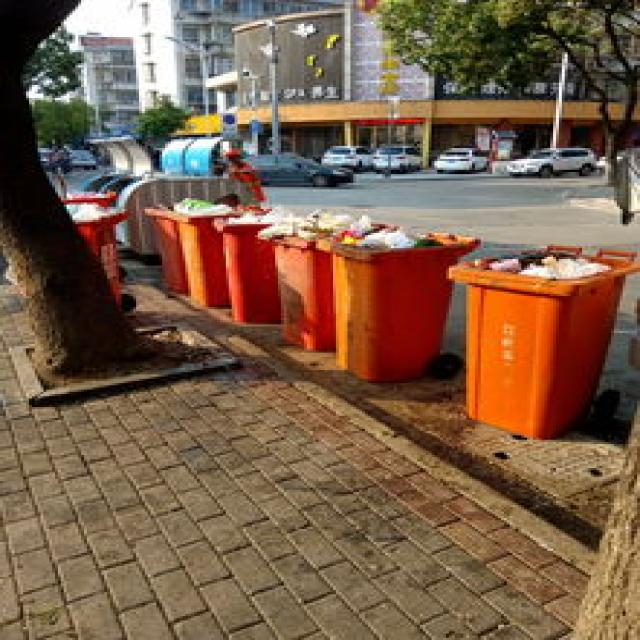overflow: (443, 242, 634, 439), (312, 222, 480, 381), (258, 209, 336, 350), (142, 194, 229, 307), (55, 187, 127, 309), (214, 205, 278, 324)
